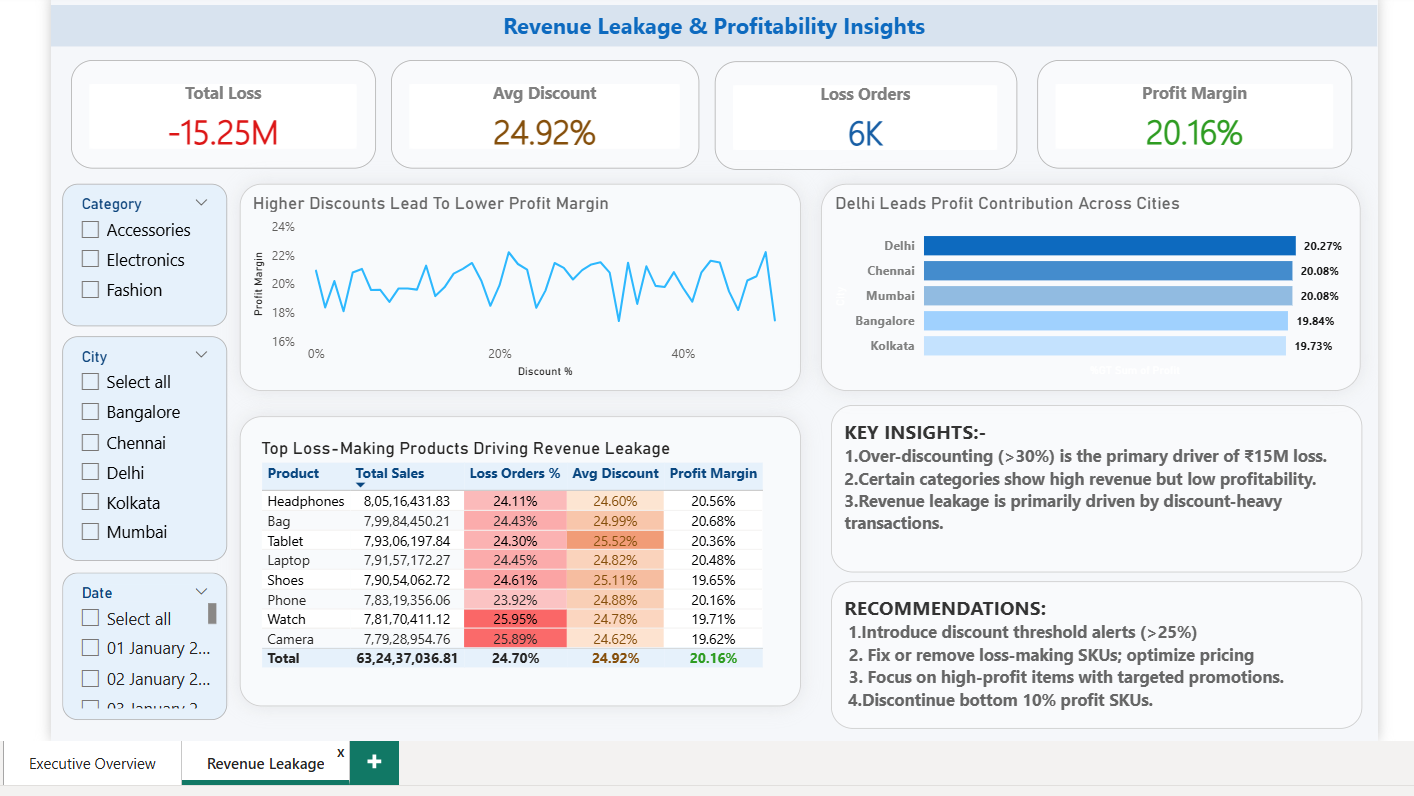

Layout of this report page (visuals, bound fields, positions):
{"tool":"powerbi","page":{"name":"Revenue Leakage","canvas":[1280,720],"ordinal":1},"visuals":[{"type":"lineChart","title":"Higher Discounts Lead To Lower Profit Margin","fields":{"Y":["customers.Pro Margin"],"Category":["transactions.Discount"]},"box":[182.2,182.2,541.7,200.3],"z":0},{"type":"tableEx","title":"Top Loss-Making Products Driving Revenue Leakage","fields":{"Values":["transactions.Product","Sum(transactions.Sales)","customers.Loss Orders %","customers.Avg Discount","customers.Pro Margin"]},"box":[182.2,406.6,541.7,279.9],"z":1000},{"type":"slicer","fields":{"Values":["transactions.Category"]},"box":[10.9,182.2,159.3,137.5],"z":2000},{"type":"slicer","fields":{"Values":["transactions.City"]},"box":[10.9,329.4,159.3,217.2],"z":3000},{"type":"slicer","fields":{"Values":["transactions.Order_Date"]},"box":[10.9,557.4,159.3,142.4],"z":4000},{"type":"textbox","box":[752.8,395.7,512.7,161.7],"z":5000},{"type":"textbox","box":[0,9.7,1280,39.8],"z":6000},{"type":"cardVisual","fields":{"Data":["customers.Avg Discount"]},"box":[328.2,62.7,298,105],"z":7000},{"type":"cardVisual","fields":{"Data":["customers.Total Loss"]},"box":[19.3,62.7,294.4,105],"z":8000},{"type":"cardVisual","fields":{"Data":["customers.Loss Orders"]},"box":[640.6,63.9,292,105],"z":9000},{"type":"barChart","title":"Delhi Leads Profit Contribution Across Cities","fields":{"Category":["transactions.City"],"Y":["Sum(transactions.Profit)"]},"box":[743.2,182.2,521.2,200.3],"z":10000},{"type":"textbox","box":[752.8,565.8,512.7,142.4],"z":11000},{"type":"cardVisual","fields":{"Data":["customers.Pro Margin"]},"box":[951.9,62.7,304,105],"z":12000}]}

Visuals, with their boxes on the page's 1280x720 design canvas (x1, y1, x2, y2). These are canvas units, not pixel positions in the 1414x796 screenshot, which may show the page scaled, cropped or inside an application window:
"Higher Discounts Lead To Lower Profit Margin" lineChart: box(182, 182, 724, 382)
"Top Loss-Making Products Driving Revenue Leakage" tableEx: box(182, 407, 724, 686)
slicer - transactions.Category: box(11, 182, 170, 320)
slicer - transactions.City: box(11, 329, 170, 547)
slicer - transactions.Order_Date: box(11, 557, 170, 700)
textbox: box(753, 396, 1266, 557)
textbox: box(0, 10, 1280, 50)
cardVisual - customers.Avg Discount: box(328, 63, 626, 168)
cardVisual - customers.Total Loss: box(19, 63, 314, 168)
cardVisual - customers.Loss Orders: box(641, 64, 933, 169)
"Delhi Leads Profit Contribution Across Cities" barChart: box(743, 182, 1264, 382)
textbox: box(753, 566, 1266, 708)
cardVisual - customers.Pro Margin: box(952, 63, 1256, 168)
